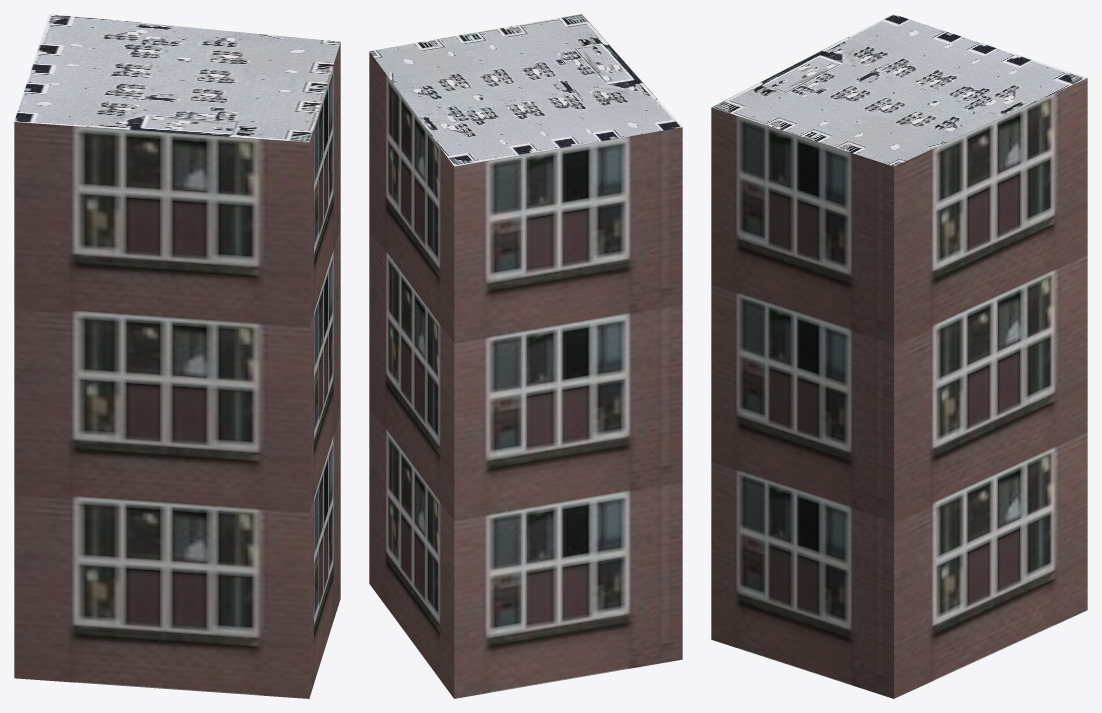
The model's file is ResTex__97.fbx.
3 renders of one model, left to right at view 1: azimuth 30°, elevation 25°; view 2: azimuth 150°, elevation 25°; view 3: azimuth 270°, elevation 25°, orthographic. The views are drawn at different scales.
Visible parts, largest first — view 1: CityEngineMaterial_12_m, CityEngineMaterial_m; view 2: CityEngineMaterial_12_m, CityEngineMaterial_m; view 3: CityEngineMaterial_12_m, CityEngineMaterial_m.
Part boxes in pixels (<box>): CityEngineMaterial_12_m: <box>14,43,340,698</box>; CityEngineMaterial_m: <box>14,14,340,142</box>; CityEngineMaterial_12_m: <box>369,52,682,698</box>; CityEngineMaterial_m: <box>369,14,682,166</box>; CityEngineMaterial_12_m: <box>711,78,1087,698</box>; CityEngineMaterial_m: <box>711,14,1086,166</box>.
Bounding box in the file's own units: 5.54 × 9 × 5.77.
Materials: 2 (2 with a texture image).
